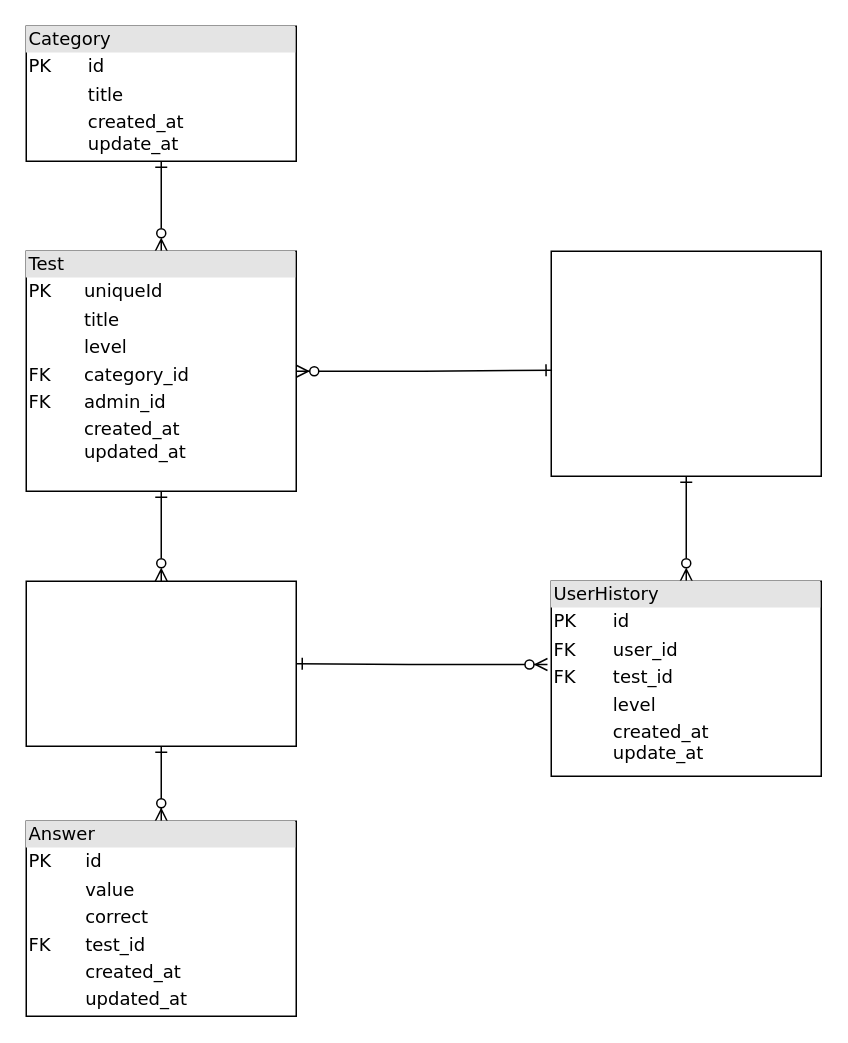
This 848x1043 diagram has some shape labels left out. The shapes that lost their labels are listed below. From the top down, each one's centre as x and y in pixels, then its label:
the point at 685,363: User PK id login email admin password created_at updated_at
the point at 160,663: Question PK id body FK test_id created_at updated_at
